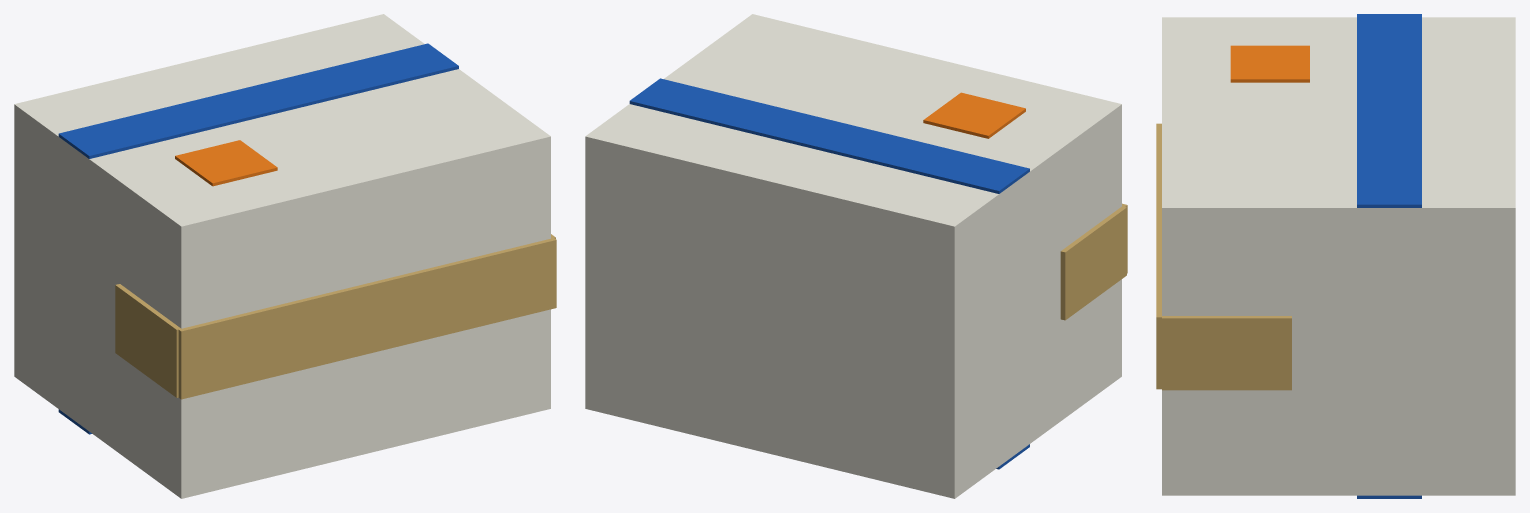
Rendered from item_p3.obj.
3 renders of one model, left to right at view 1: azimuth 30°, elevation 25°; view 2: azimuth 150°, elevation 25°; view 3: azimuth 270°, elevation 25°, orthographic. The views are drawn at different scales.
Parts seen in each view (by area): view 1: item_p3; view 2: item_p3; view 3: item_p3.
Part boxes in pixels (box(x1,y1,x2,y2)): item_p3: box(14, 14, 556, 498); item_p3: box(585, 14, 1127, 498); item_p3: box(1156, 14, 1515, 498).
Bounding box in the file's own units: 0.1282 × 0.0906 × 0.0996.
1 material, 1 textured.
